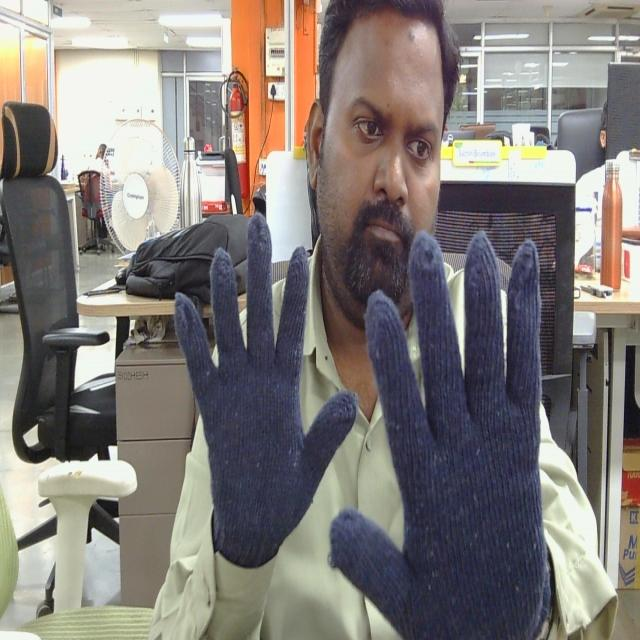Gloves-Detection: (330, 227, 551, 640), (170, 210, 358, 568)
